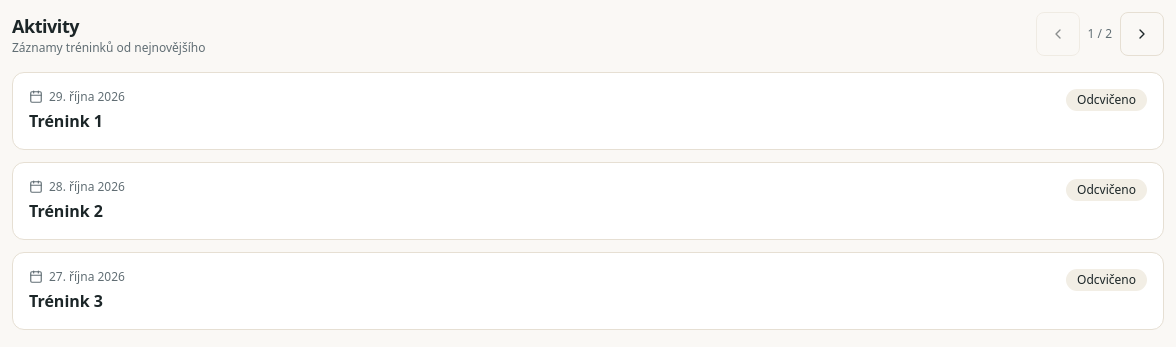
Test: DogActivitiesSection loads records page by page (#79) › asks the API for one page and pages through the total it reports
The image size is (1176, 347).
Check: the heading "Trénink 1" is shown, box [29,110,103,132]
Check: the text "Trénink 4" is not shown
Click the button named "další stránka aktivit" at {"x": 1142, "y": 34}, box [1120,12,1164,56]
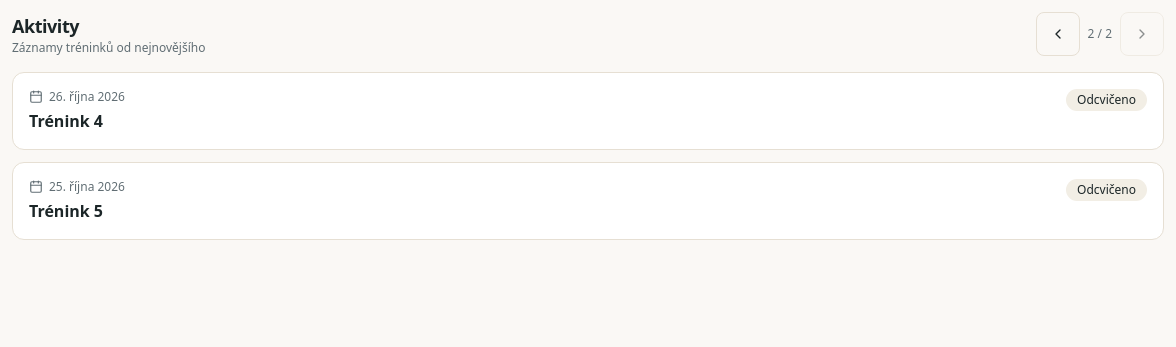
Check: the heading "Trénink 4" is shown, box [29,110,103,132]
Check: the text "2 / 2" is shown, box [1088,26,1112,42]
